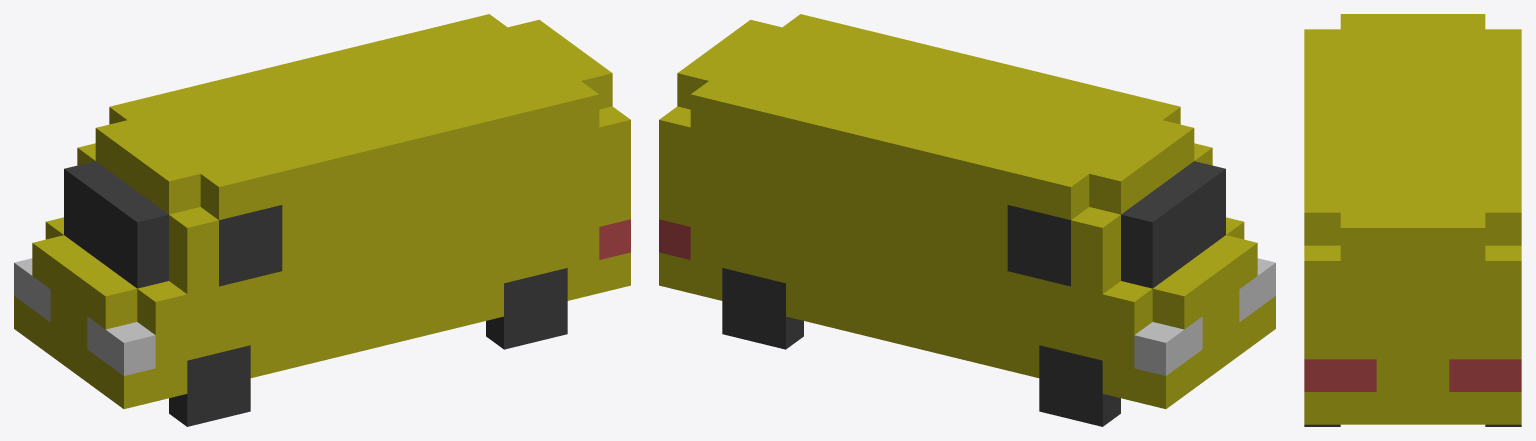
The model's file is truck-v1-yellow.gltf.
The picture shows the model from 3 angles, left to right: view 1: azimuth 30°, elevation 25°; view 2: azimuth 150°, elevation 25°; view 3: azimuth 270°, elevation 25°; orthographic projection.
Visible parts, largest first — view 1: model, wheels; view 2: model, wheels; view 3: model, wheels.
Boxes of the visible parts, x1,y1,x2,y2 form: model: (14,14,630,408); wheels: (169,268,567,426); model: (659,14,1275,408); wheels: (722,268,1120,426); model: (1304,14,1521,424); wheels: (1304,424,1521,426).
Bounding box in the file's own units: 1.6 × 0.7 × 0.6.
Materials: 2 (2 with a texture image).
